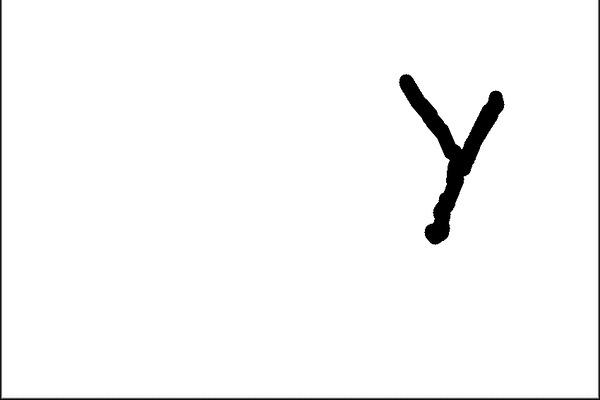Y: (382, 64, 509, 249)
